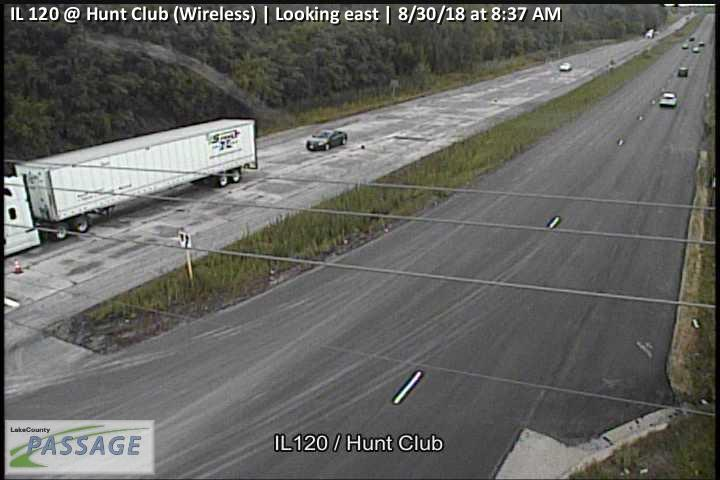SUV: (658, 92, 677, 107), (678, 67, 689, 78)
Sedan: (306, 128, 348, 151), (559, 61, 572, 71)
Truck: (1, 116, 259, 258)
